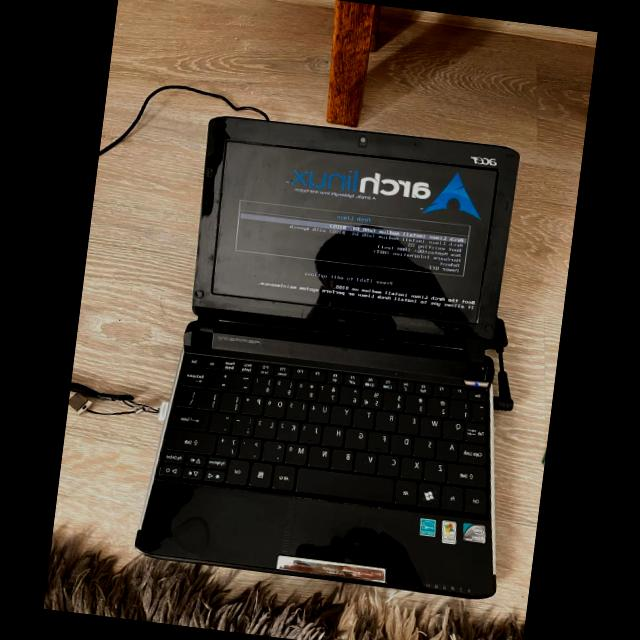laptop: (174, 517, 208, 551)
